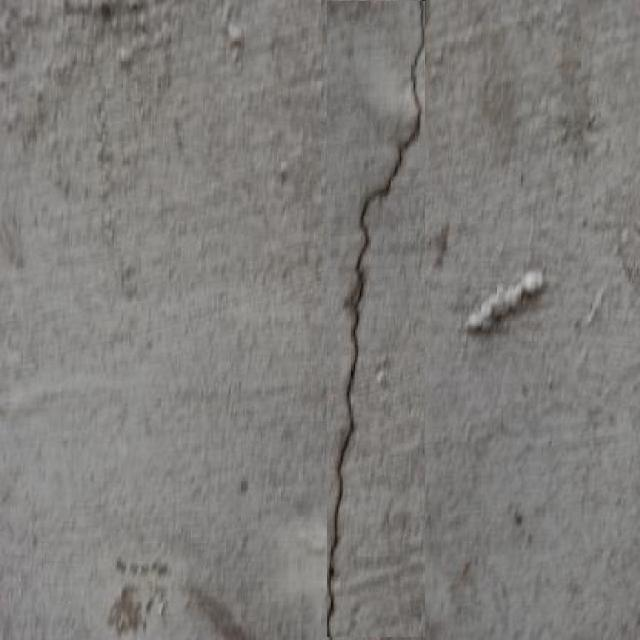Crack: (320, 0, 431, 639), (346, 0, 432, 244), (74, 0, 143, 251), (104, 560, 270, 640), (1, 375, 130, 431)
